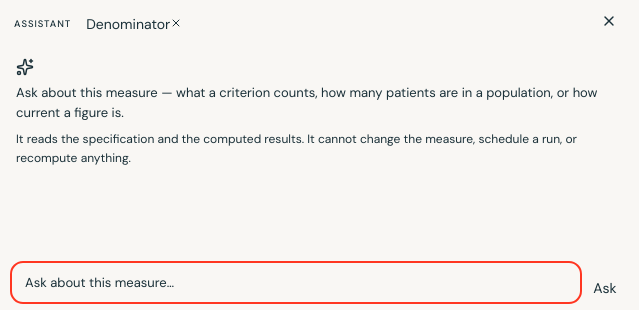
Test: references and artifacts in an answer (APP-ASSISTANT-REFS) › degrades an unresolvable reference to the words the model wrote
The image size is (639, 310).
Type "What does it count?" into the text box named "Ask a question".
click(296, 282); type("What does it count?")  # box [14,264,578,300]
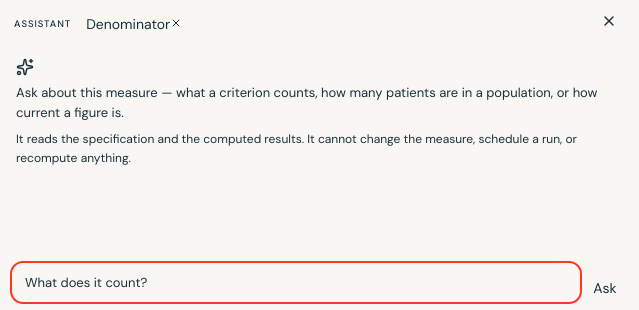
Click the button "Ask".
click(605, 288)  # box [587,277,623,300]
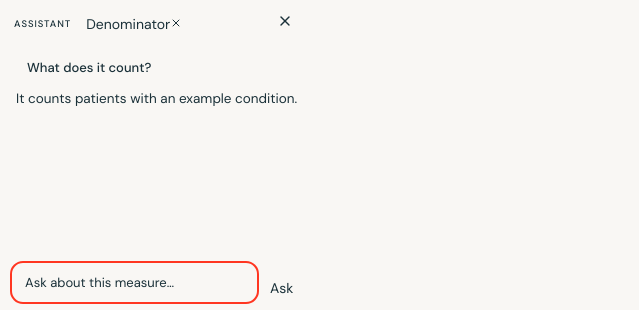
Now the text "It counts patients with an example condition." is shown, box [16,88,297,109]
